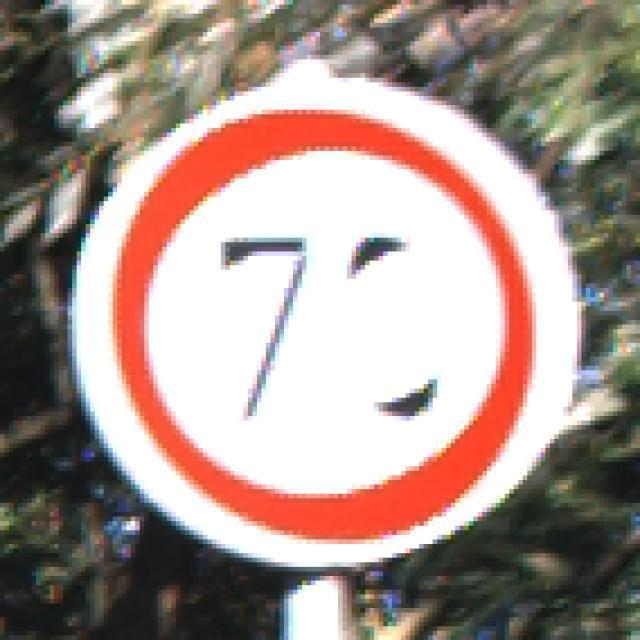Ograniczenie predkosci do 70: (112, 110, 524, 540)
